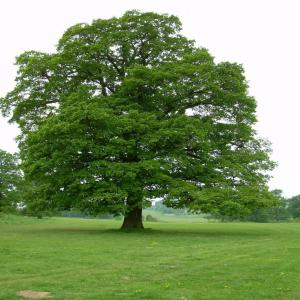Tree: (0, 8, 283, 230)
